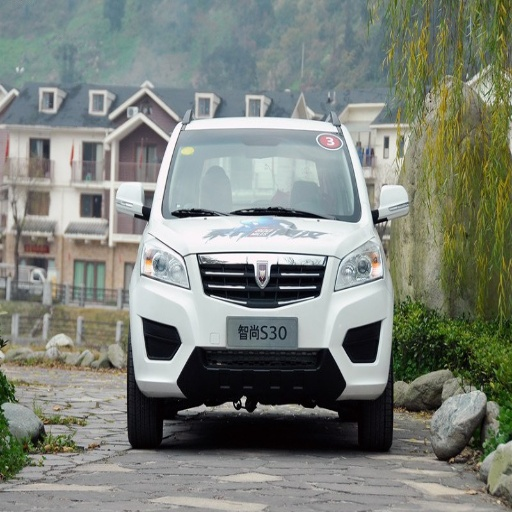front_bumper: (132, 254, 392, 399)
front_right_light: (140, 236, 190, 287)
hood: (152, 215, 374, 257)
left_mirror: (373, 185, 411, 221)
